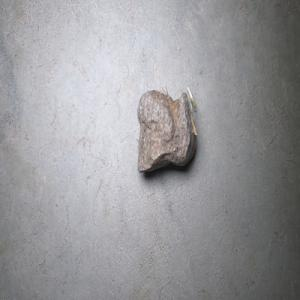Rock: (136, 86, 197, 173)
